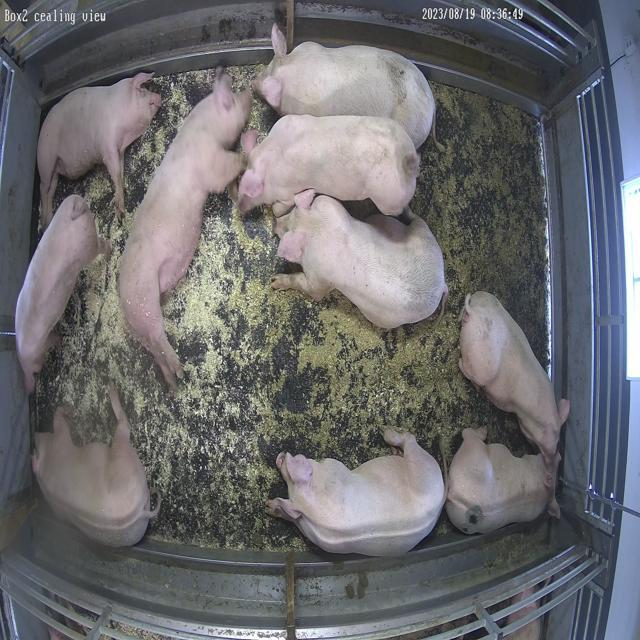Dirt: (255, 85, 548, 480)
Pig: (119, 68, 251, 390), (461, 292, 571, 518), (274, 195, 447, 328), (266, 429, 446, 556), (254, 24, 436, 148), (32, 387, 160, 548), (37, 72, 161, 224), (16, 195, 109, 392), (238, 116, 420, 216), (446, 428, 549, 534)
